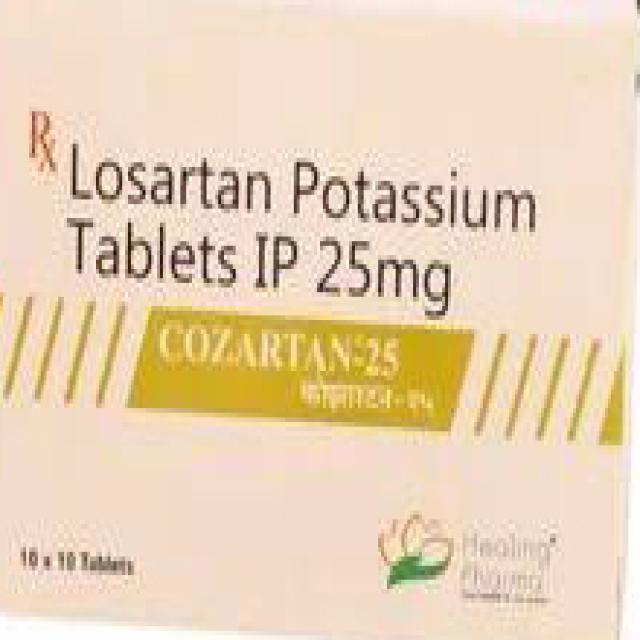drug-name: (155, 319, 405, 379)
